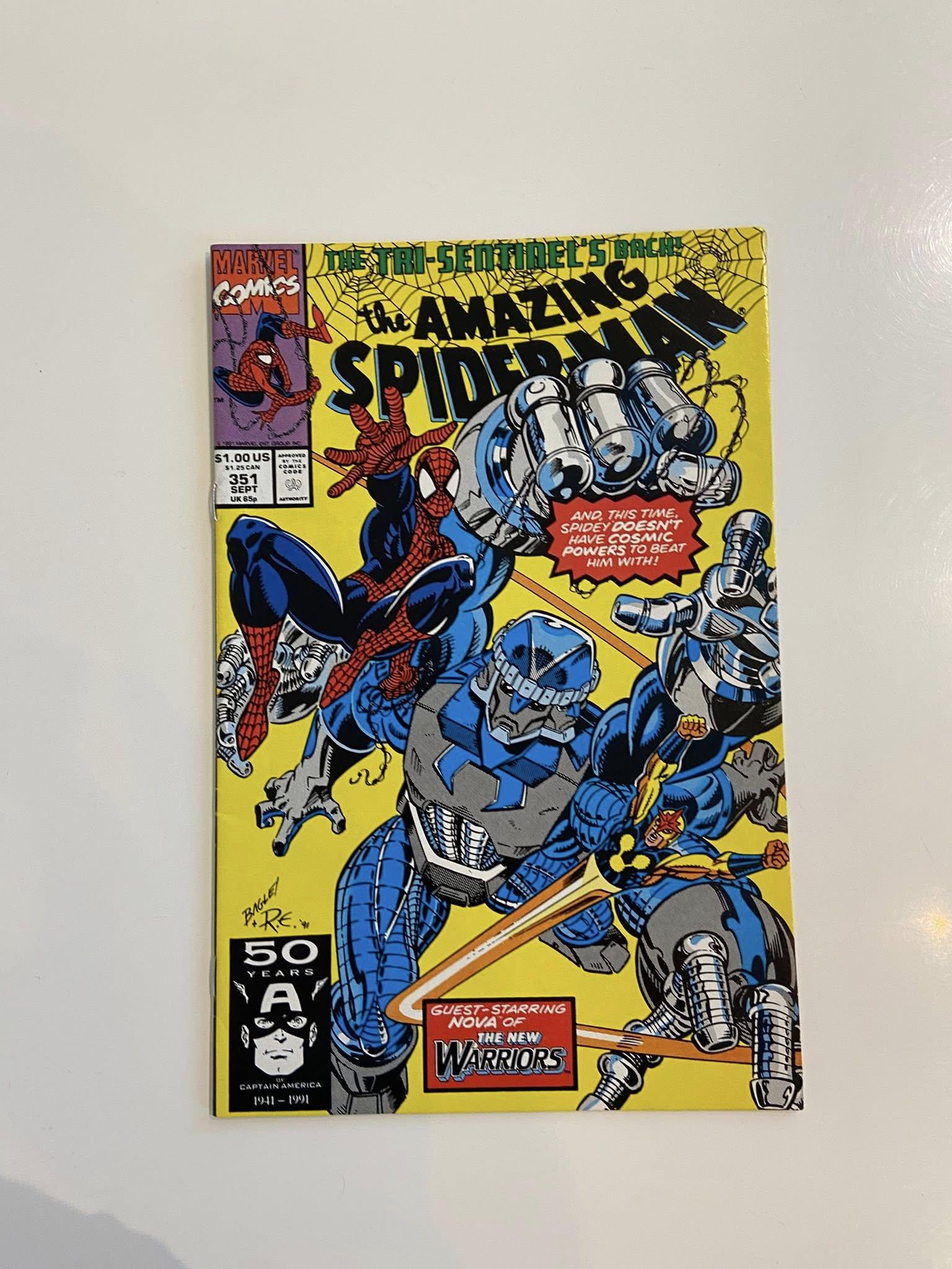comic: (186, 227, 801, 1127)
